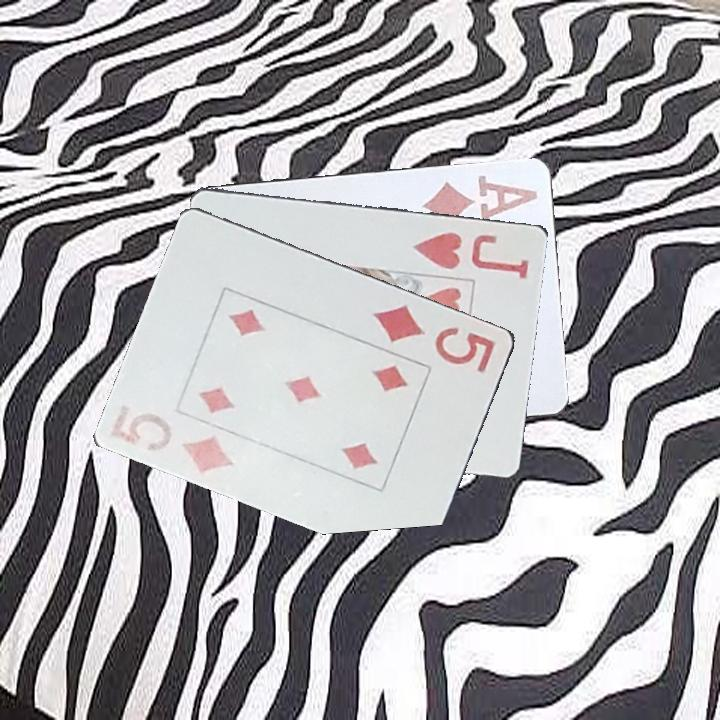5d: (370, 301, 499, 376), (123, 409, 238, 476)
Ad: (419, 171, 541, 226)
Jh: (410, 227, 532, 282)
